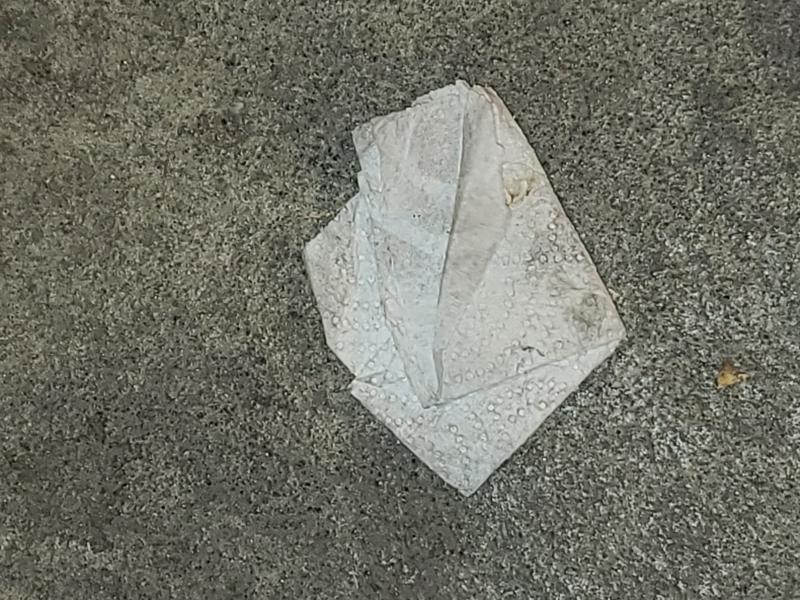papel: (301, 83, 626, 499)
